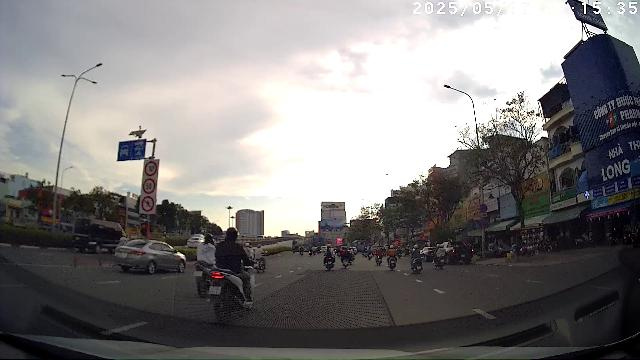127-toc-do-toi-da-50: (143, 178, 155, 194)
